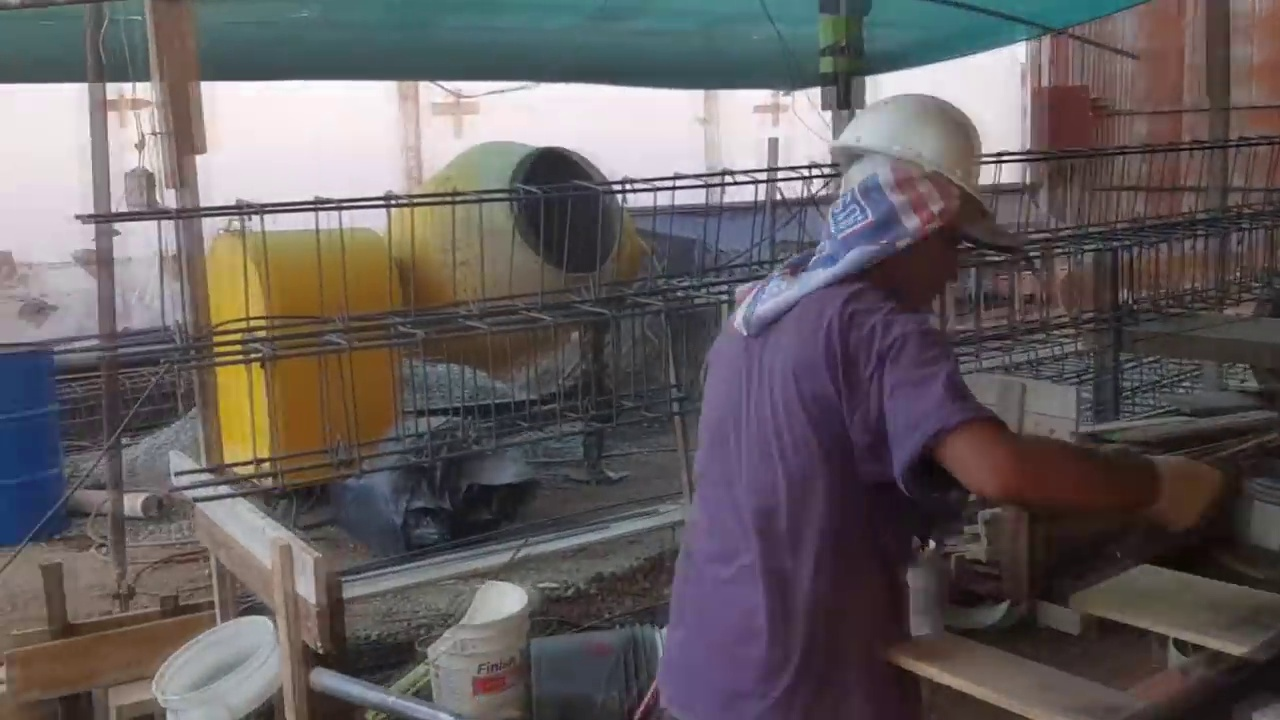helmet: (828, 93, 991, 233)
helmet-on: (807, 89, 990, 310)
person: (656, 76, 1228, 714)
